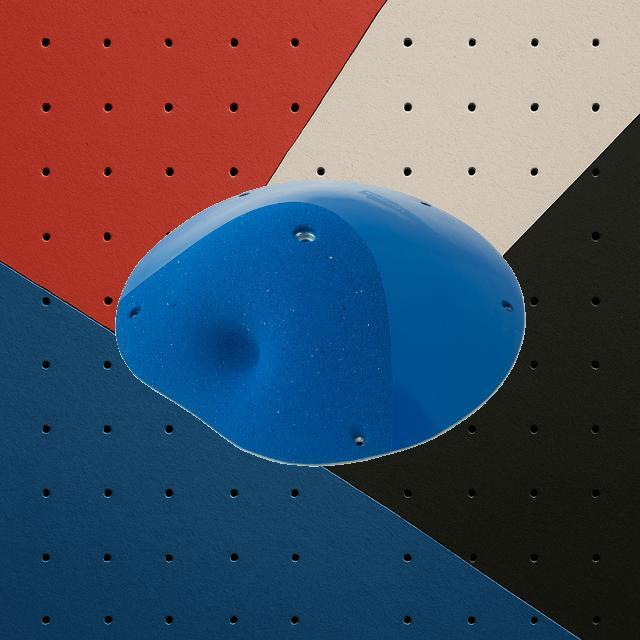Pocket: (115, 178, 527, 464)
